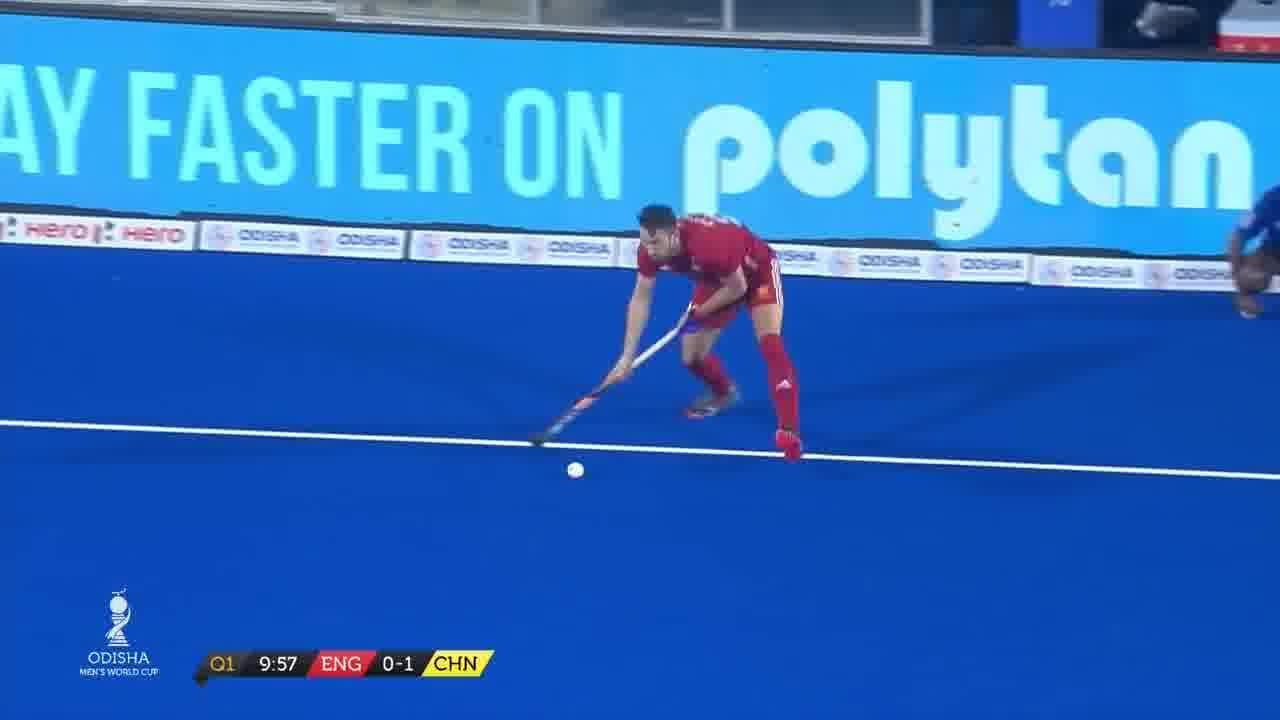ball: (562, 454, 592, 496)
